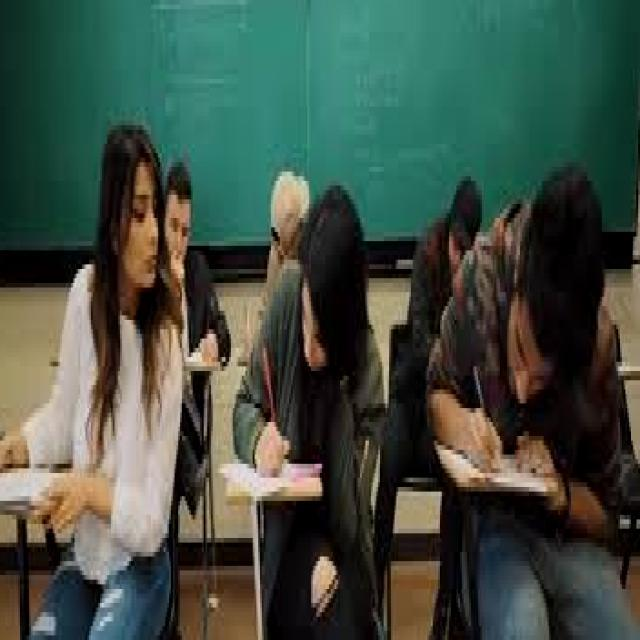cheating: (0, 103, 195, 514)
good: (422, 159, 640, 503), (226, 175, 394, 490)
